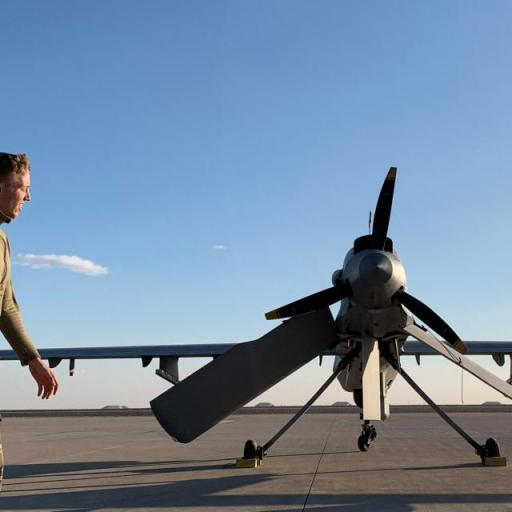uav: (96, 164, 512, 491)
